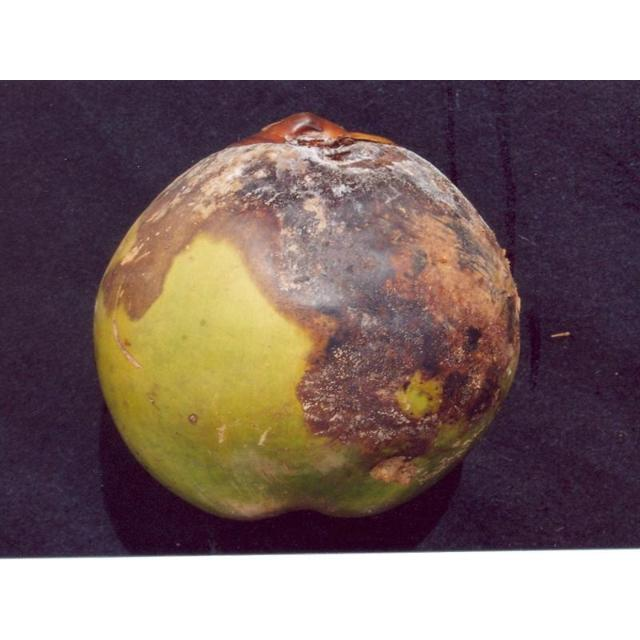damaged: (92, 113, 522, 524)
